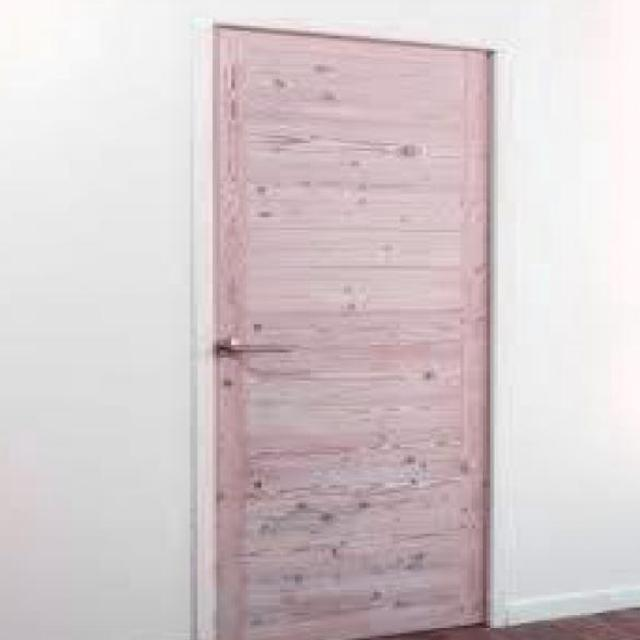door: (204, 21, 494, 639)
